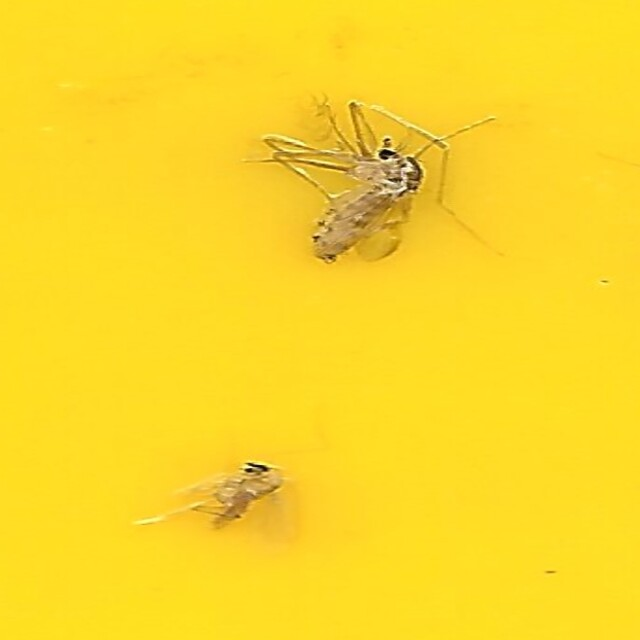Nematocera: (267, 103, 453, 271), (187, 456, 289, 537)
